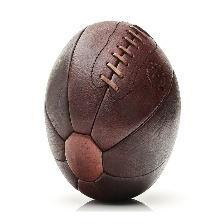Sports-Ball: (41, 22, 181, 204)
